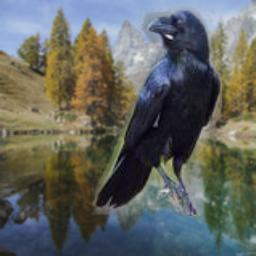Crow: (92, 6, 222, 216)
